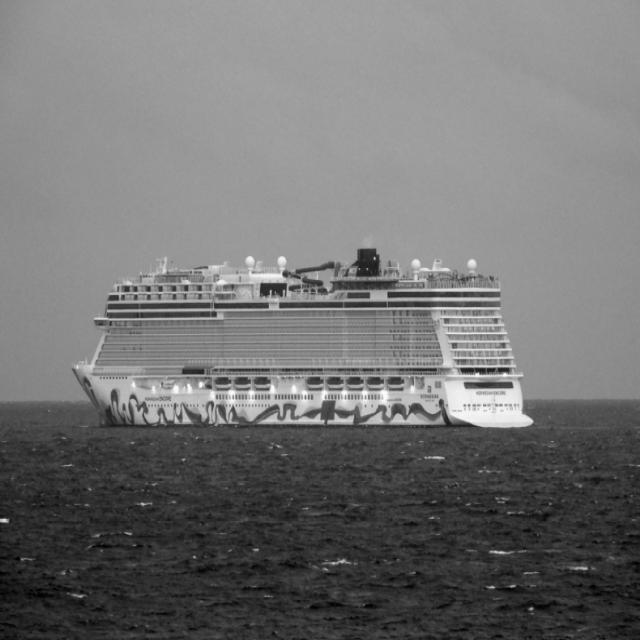cruises: (69, 242, 539, 439)
